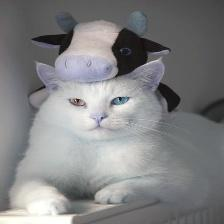kedo: (9, 60, 224, 215)
